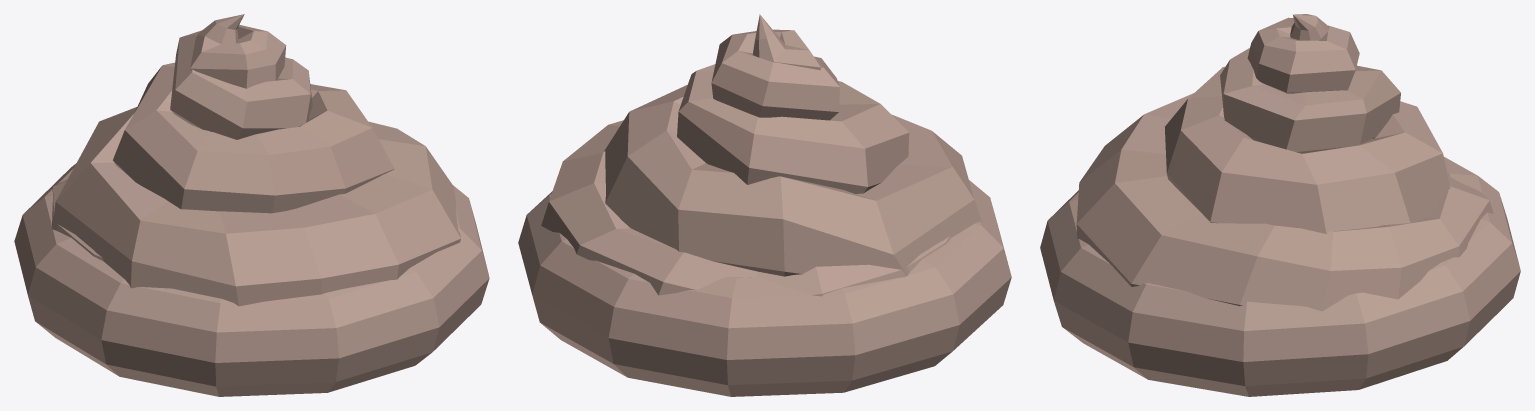
Rendered from poop#0001.fbx.
The picture shows the model from 3 angles, left to right: view 1: azimuth 30°, elevation 25°; view 2: azimuth 150°, elevation 25°; view 3: azimuth 270°, elevation 25°; orthographic projection. The views are drawn at different scales.
Parts seen in each view (by area): view 1: group1888406042; view 2: group1888406042; view 3: group1888406042.
Boxes of the visible parts, box(x1,y1,x2,y2) form: group1888406042: box(14, 14, 489, 396); group1888406042: box(518, 14, 1011, 396); group1888406042: box(1040, 14, 1520, 396).
Size of the model in its own units: 26 by 18.61 by 26.
